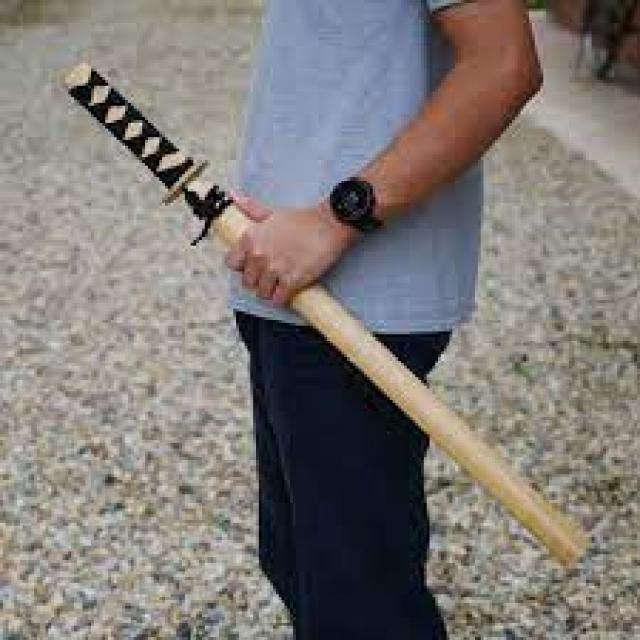long sword: (63, 56, 602, 567)
